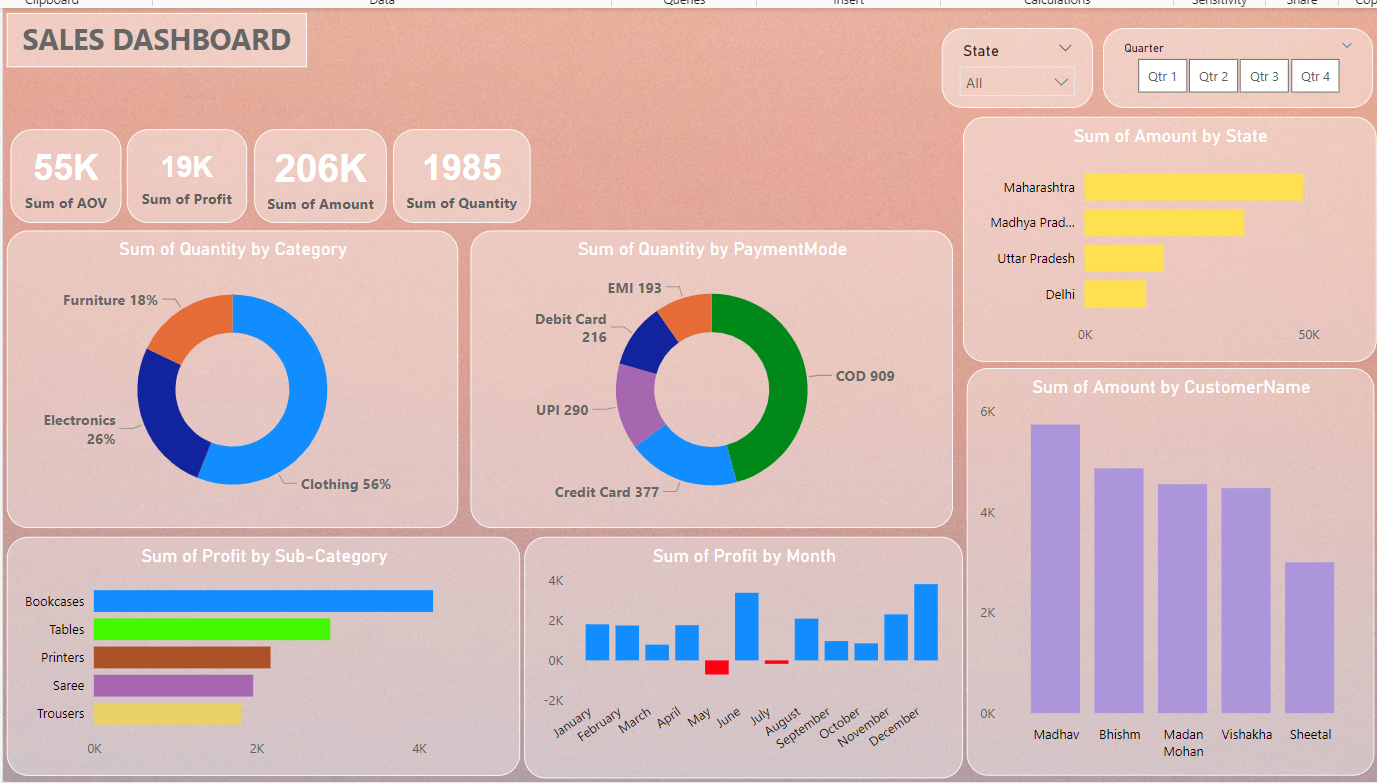

The dashboard page shown, as its layout file describes it:
{"tool":"powerbi","page":{"name":"Page 1","canvas":[1280,720],"ordinal":0},"visuals":[{"type":"columnChart","fields":{"Y":["Sum(Details.Profit)"],"Category":["Cleaned_Orders.Order Date.Variation.Date Hierarchy.Month"]},"box":[484.9,491.9,408.1,224.4],"z":0},{"type":"barChart","fields":{"Y":["Sum(Details.Profit)"],"Category":["Details.Sub-Category"]},"box":[3.5,491.9,477.9,222.1],"z":1000},{"type":"donutChart","fields":{"Category":["Details.Category"],"Y":["Sum(Details.Quantity)"]},"box":[3.5,207,419.8,276.7],"z":2000},{"type":"donutChart","fields":{"Category":["Details.PaymentMode"],"Y":["Sum(Details.Quantity)"]},"box":[434.9,207,448.8,276.7],"z":3000},{"type":"card","fields":{"Values":["Sum(Details.Amount)"]},"box":[233.7,113,123.3,87.2],"z":4000},{"type":"card","fields":{"Values":["Sum(Details.Quantity)"]},"box":[362.8,113,127.9,87.2],"z":5000},{"type":"card","fields":{"Values":["Sum(Details.Profit)"]},"box":[115.1,113,111.6,87.2],"z":6000},{"type":"card","fields":{"Values":["Sum(Details.AOV)"]},"box":[7,113,103.5,87.2],"z":7000},{"type":"barChart","fields":{"Category":["Cleaned_Orders.State"],"Y":["Sum(Details.Amount)"]},"box":[893,101.2,384.9,227.9],"z":8000},{"type":"columnChart","fields":{"Category":["Cleaned_Orders.CustomerName"],"Y":["Sum(Details.Amount)"]},"box":[896.5,334.9,379.1,379.1],"z":9000},{"type":"textbox","box":[3.5,4.7,279.1,50],"z":10000},{"type":"slicer","fields":{"Values":["Cleaned_Orders.Order Date.Variation.Date Hierarchy.Quarter"]},"box":[1023.3,18.6,251.2,74.4],"z":11000},{"type":"slicer","fields":{"Values":["Cleaned_Orders.State"]},"box":[873.3,18.6,140.7,74.4],"z":12000}]}

Visuals, with their boxes on the page's 1280x720 design canvas (x1, y1, x2, y2). These are canvas units, not pixel positions in the 1377x783 screenshot, which may show the page scaled, cropped or inside an application window:
columnChart - Sum(Details.Profit) x Cleaned_Orders.Order Date.Variation.Date Hierarchy.Month: x1=485 y1=492 x2=893 y2=716
barChart - Sum(Details.Profit) x Details.Sub-Category: x1=4 y1=492 x2=481 y2=714
donutChart - Details.Category x Sum(Details.Quantity): x1=4 y1=207 x2=423 y2=484
donutChart - Details.PaymentMode x Sum(Details.Quantity): x1=435 y1=207 x2=884 y2=484
card - Sum(Details.Amount): x1=234 y1=113 x2=357 y2=200
card - Sum(Details.Quantity): x1=363 y1=113 x2=491 y2=200
card - Sum(Details.Profit): x1=115 y1=113 x2=227 y2=200
card - Sum(Details.AOV): x1=7 y1=113 x2=110 y2=200
barChart - Cleaned_Orders.State x Sum(Details.Amount): x1=893 y1=101 x2=1278 y2=329
columnChart - Cleaned_Orders.CustomerName x Sum(Details.Amount): x1=896 y1=335 x2=1276 y2=714
textbox: x1=4 y1=5 x2=283 y2=55
slicer - Cleaned_Orders.Order Date.Variation.Date Hierarchy.Quarter: x1=1023 y1=19 x2=1274 y2=93
slicer - Cleaned_Orders.State: x1=873 y1=19 x2=1014 y2=93
